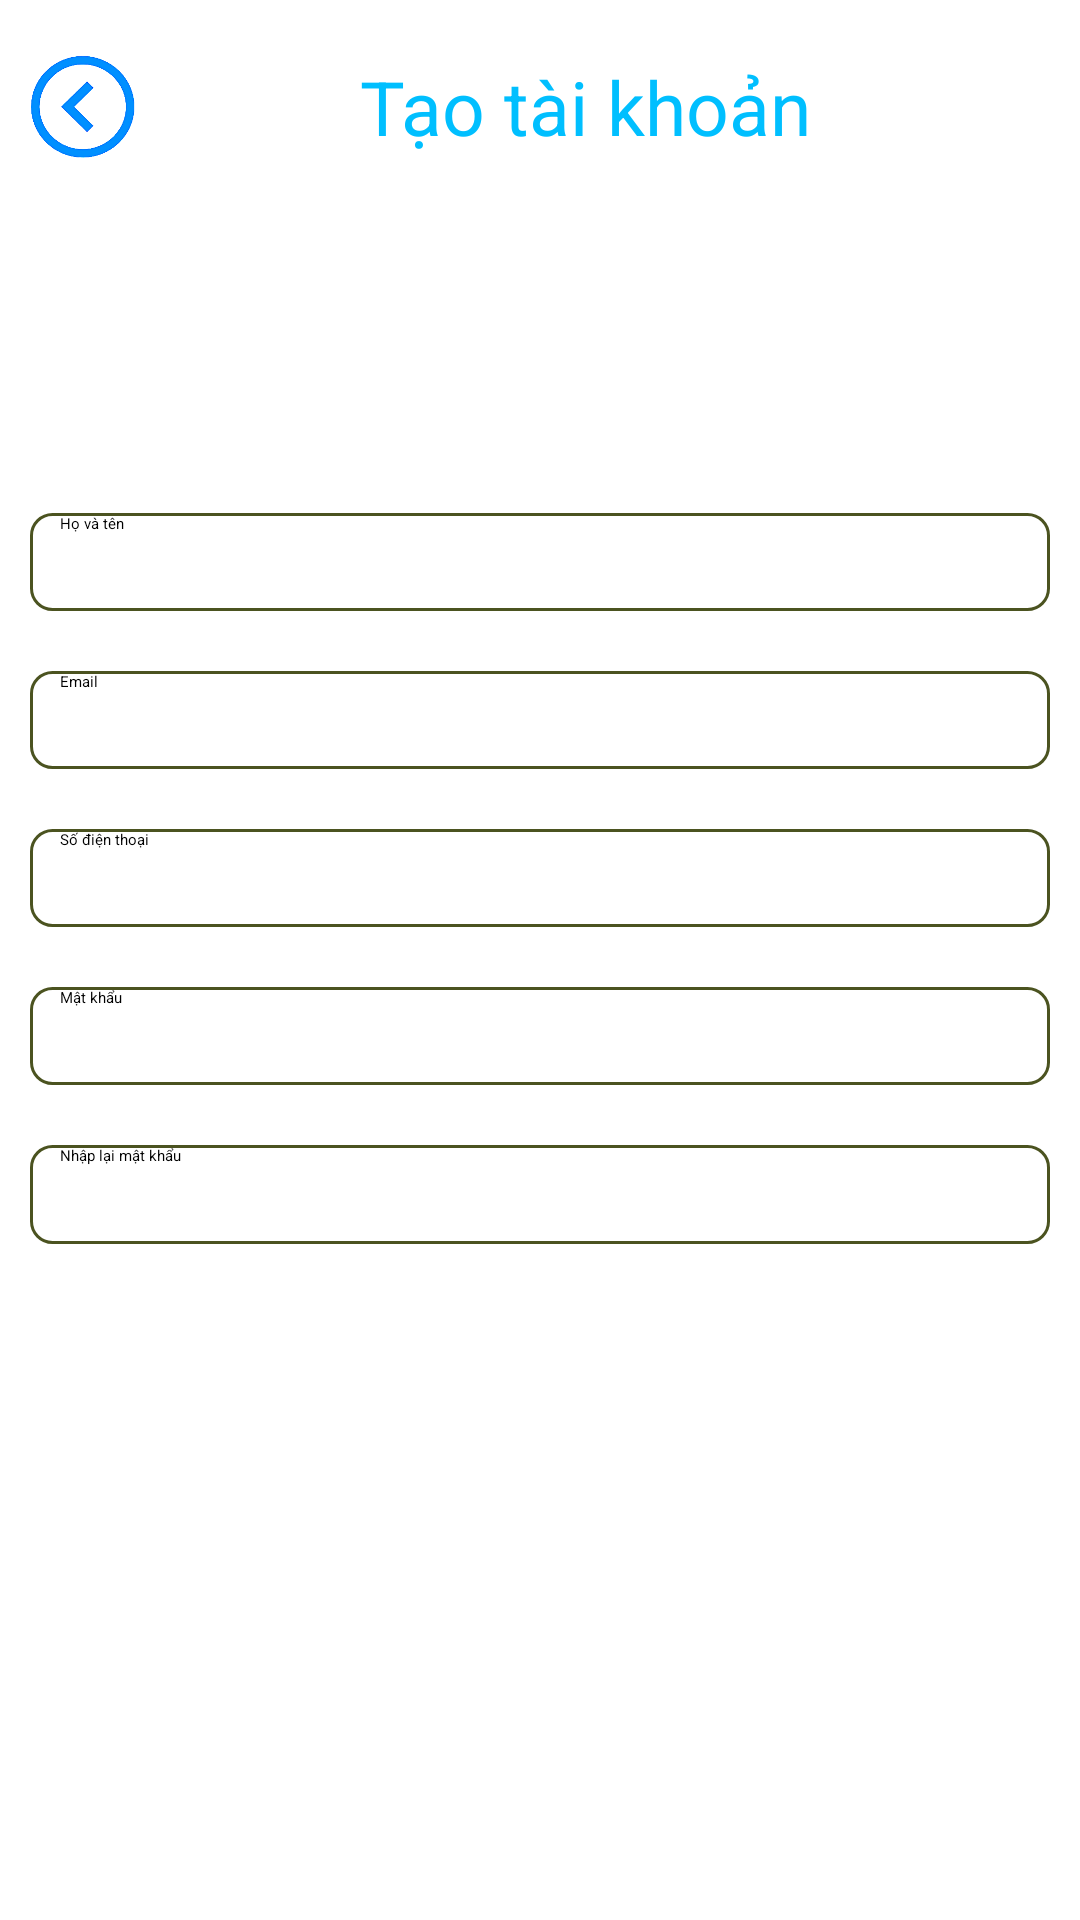

Icons on this 1080 × 1920 Android screen, each with the point to tap as (x=x, y=y):
back: (x=83, y=107)
